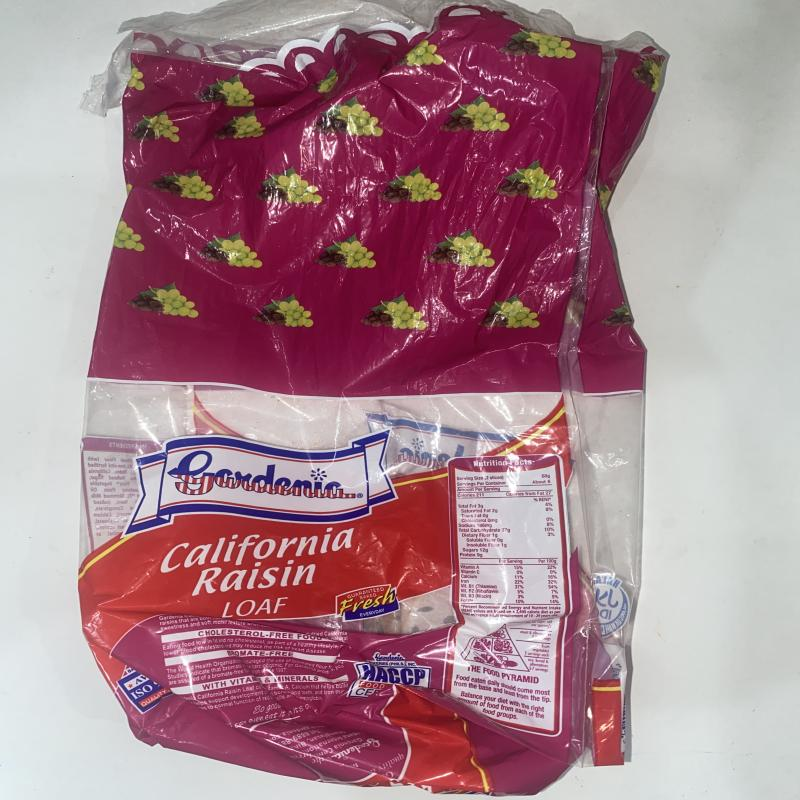plastic bag: (76, 0, 673, 800)
